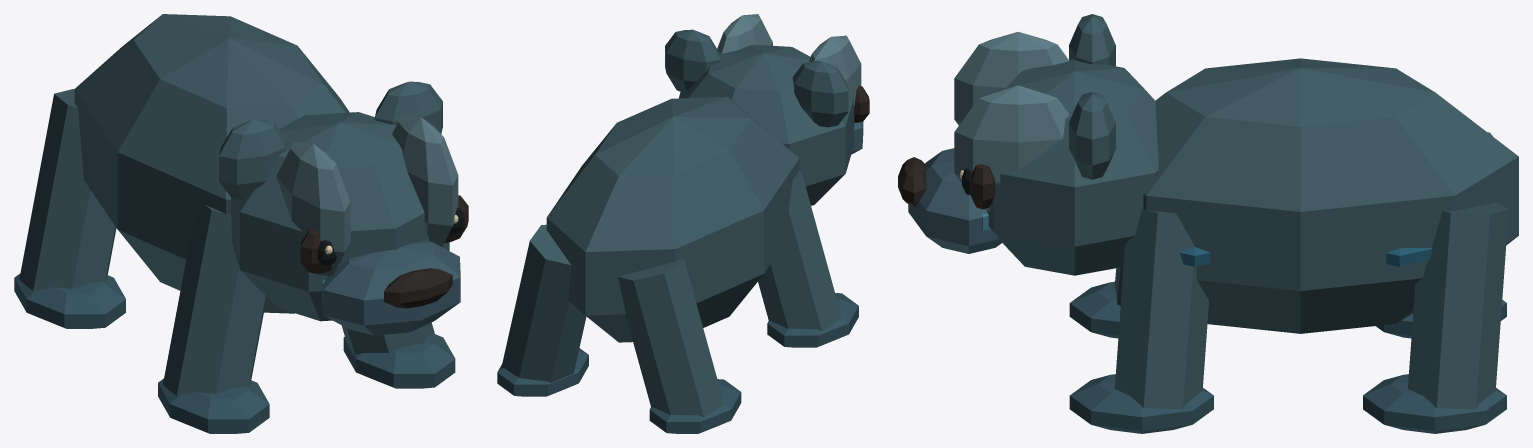
Rendered from spell-fauna-tidebound.glb.
The picture shows the model from 3 angles, left to right: view 1: azimuth 30°, elevation 25°; view 2: azimuth 150°, elevation 25°; view 3: azimuth 270°, elevation 25°; orthographic projection. The views are drawn at different scales.
Visible parts, largest first — view 1: Fauna_tidebound; view 2: Fauna_tidebound; view 3: Fauna_tidebound.
Boxes of the visible parts, x1,y1,x2,y2 form: Fauna_tidebound: [14, 14, 468, 433]; Fauna_tidebound: [497, 14, 869, 433]; Fauna_tidebound: [898, 14, 1518, 433].
Bounding box in the file's own units: 0.9118 × 1.01 × 1.76.
